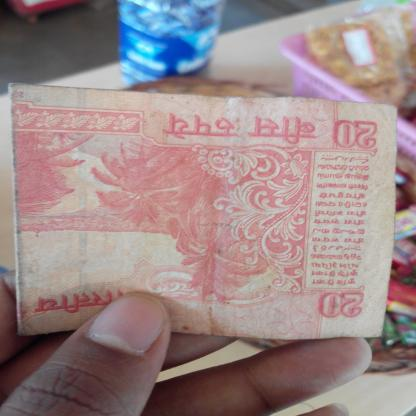Old20Back: (10, 86, 388, 339)
